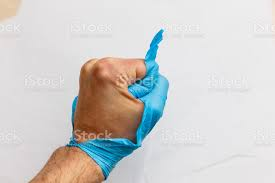defected: (39, 34, 198, 175)
